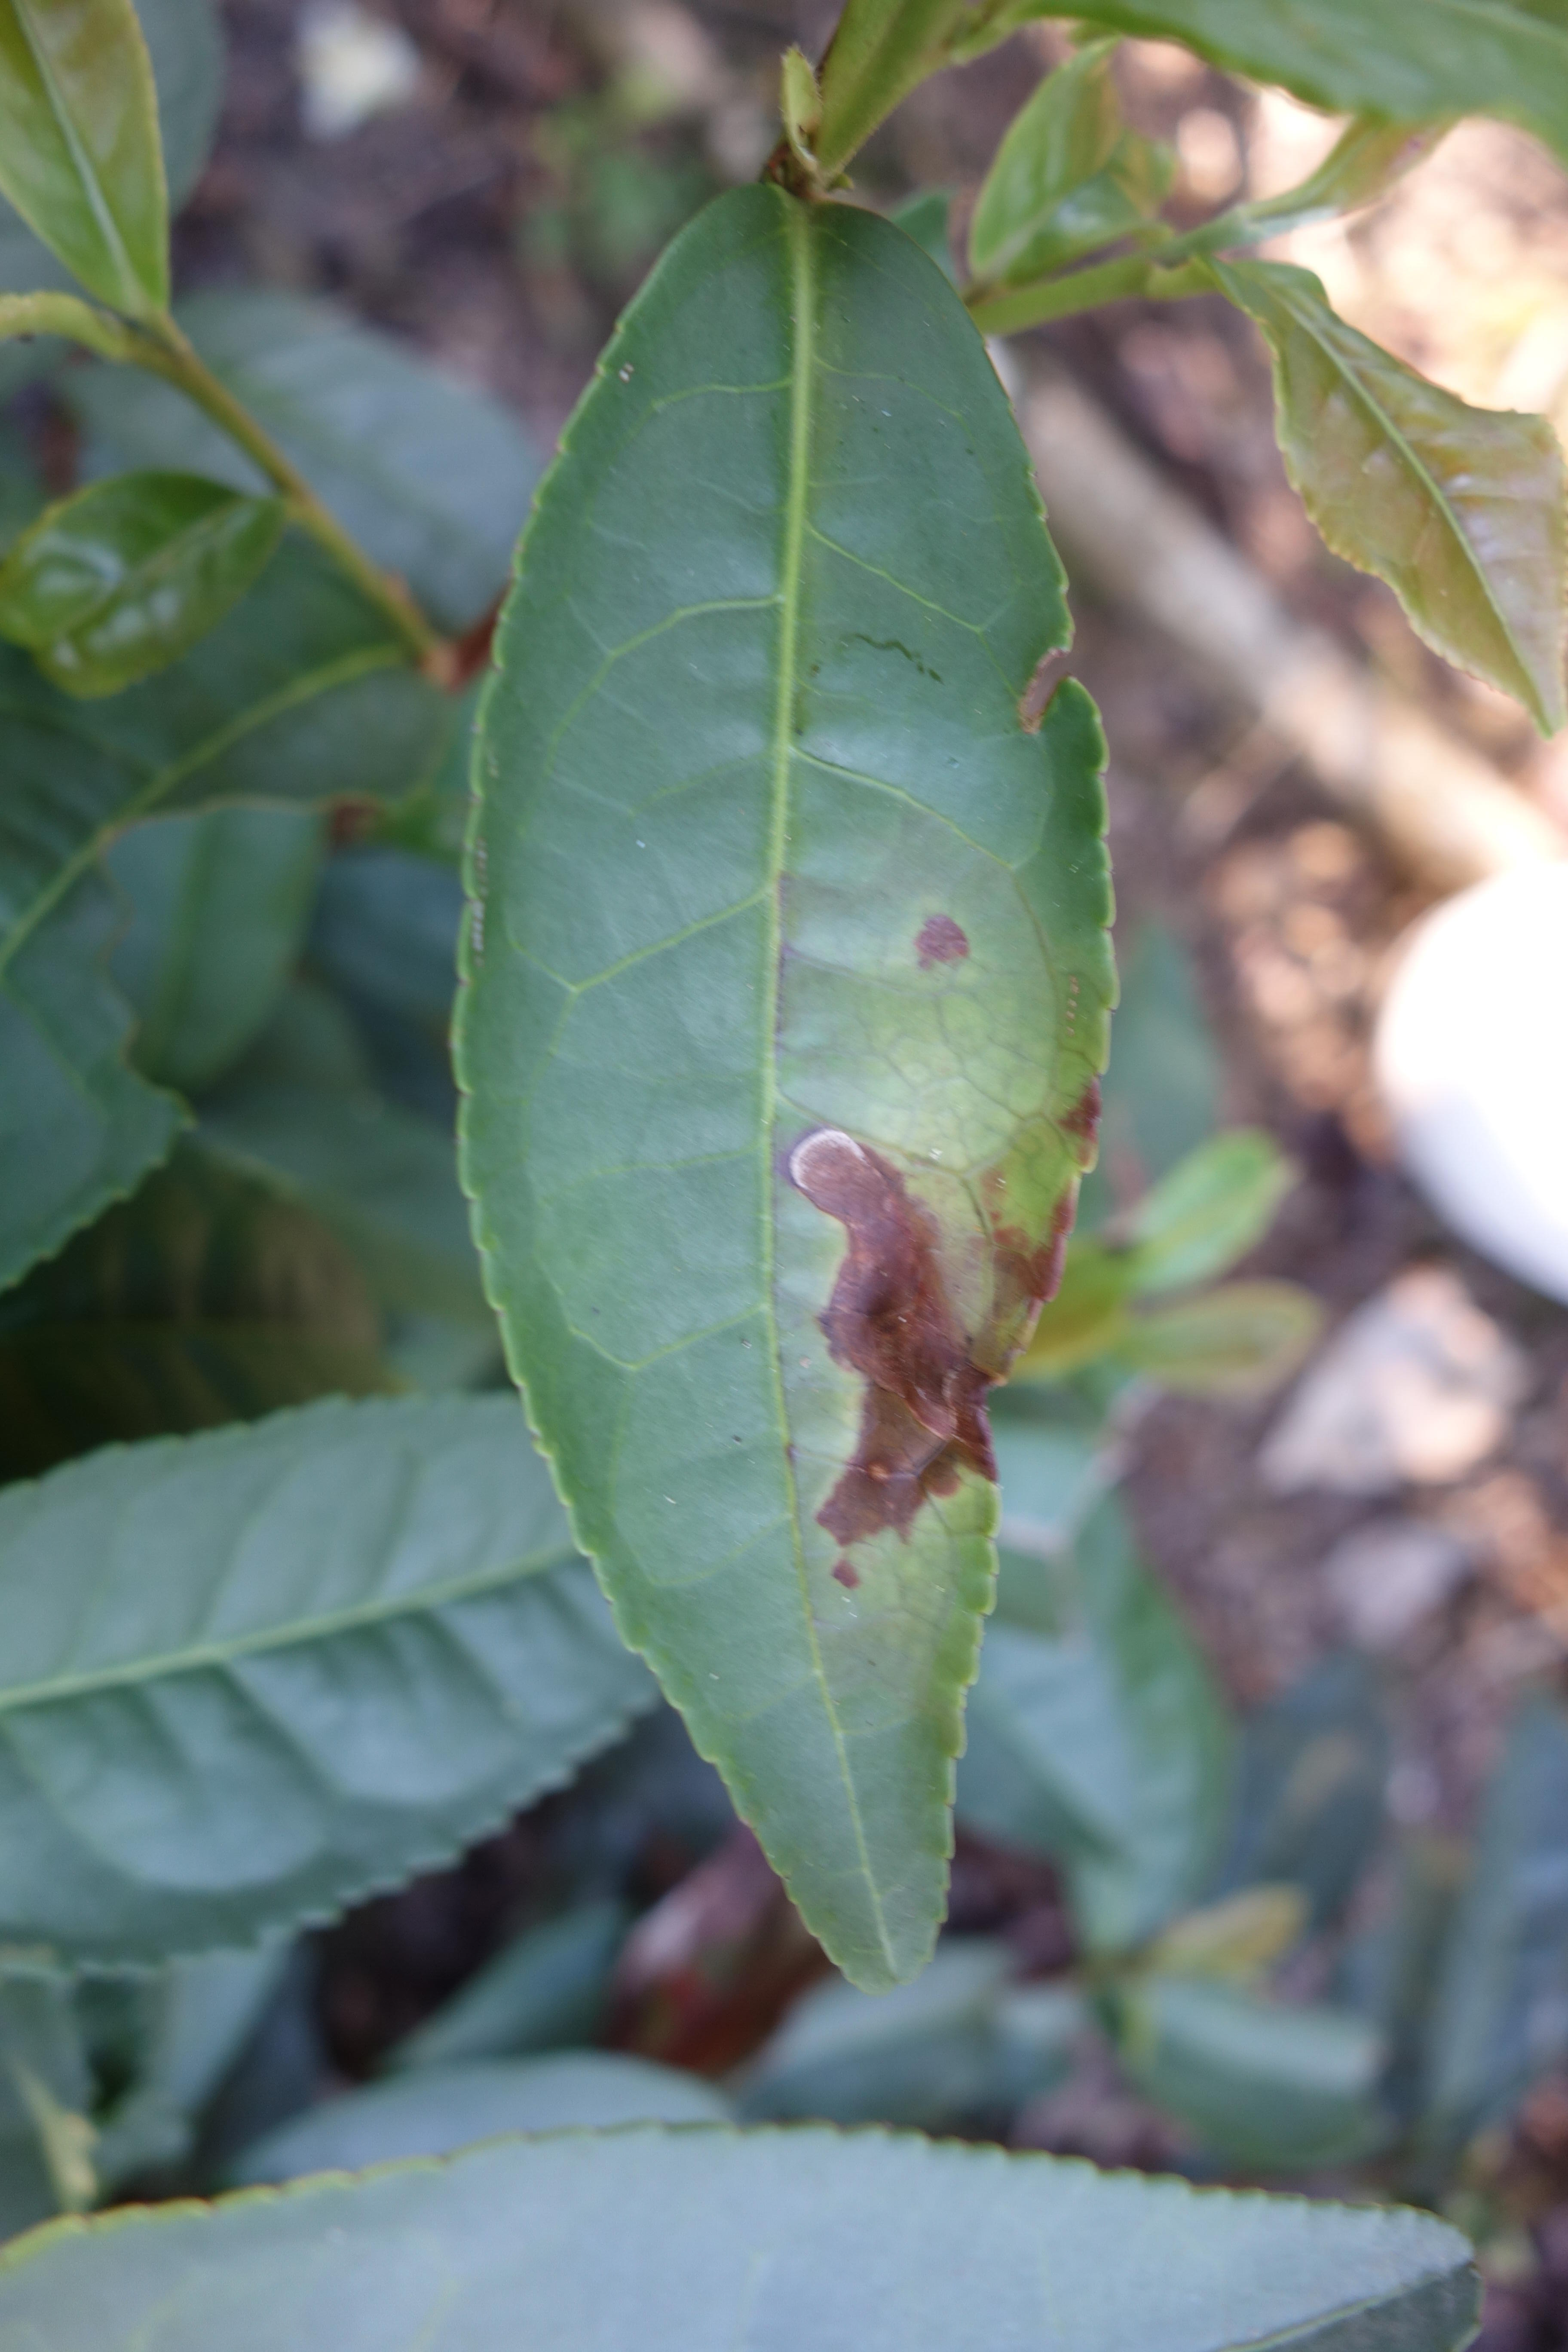tanju_high: (443, 177, 1123, 1998)
tanju_low: (1239, 261, 1564, 731), (0, 0, 171, 313)
